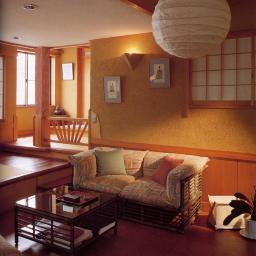Matera: (233, 189, 255, 236)
Otro Obstaculo: (209, 194, 242, 235)
